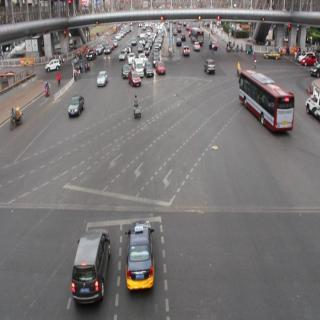BigCar: (240, 67, 296, 142), (191, 27, 205, 46)
Car: (73, 226, 110, 302), (125, 223, 154, 291), (68, 91, 86, 119), (205, 56, 218, 78), (96, 68, 108, 87), (44, 59, 61, 71), (129, 73, 141, 89), (301, 54, 316, 65), (86, 48, 96, 63), (119, 48, 128, 64), (133, 61, 144, 74), (121, 64, 131, 78), (144, 63, 153, 78), (310, 65, 318, 80), (208, 41, 219, 51), (157, 63, 166, 75), (105, 46, 113, 58), (193, 41, 200, 54), (176, 34, 182, 48), (183, 45, 189, 58), (182, 31, 187, 41)
